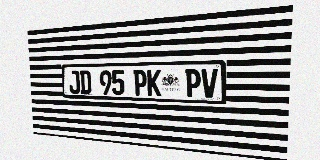5: (112, 70, 125, 95)
9: (99, 70, 112, 95)
D: (79, 70, 91, 94)
J: (69, 71, 80, 94)
K: (147, 69, 161, 96)
P: (185, 69, 201, 97), (133, 70, 147, 96)
V: (201, 69, 218, 98)
